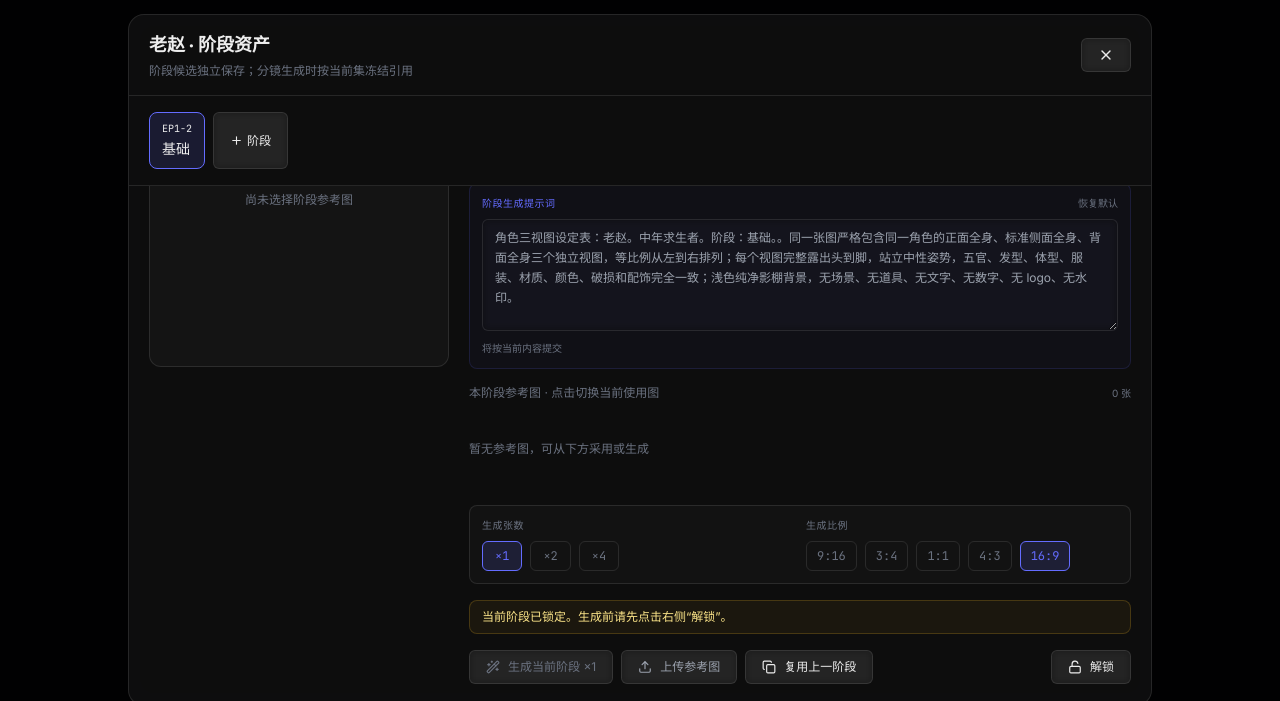
Test: AssetStageDialog › explains why generation is blocked for a locked stage
(page scrolled)
Expected: the text "当前阶段已锁定。生成前请先点击右侧“解锁”。" is shown, x1=469 y1=600 x2=1131 y2=634
Step 1. Click the button "生成当前阶段 ×1" → (541, 667), box x1=469 y1=650 x2=613 y2=684
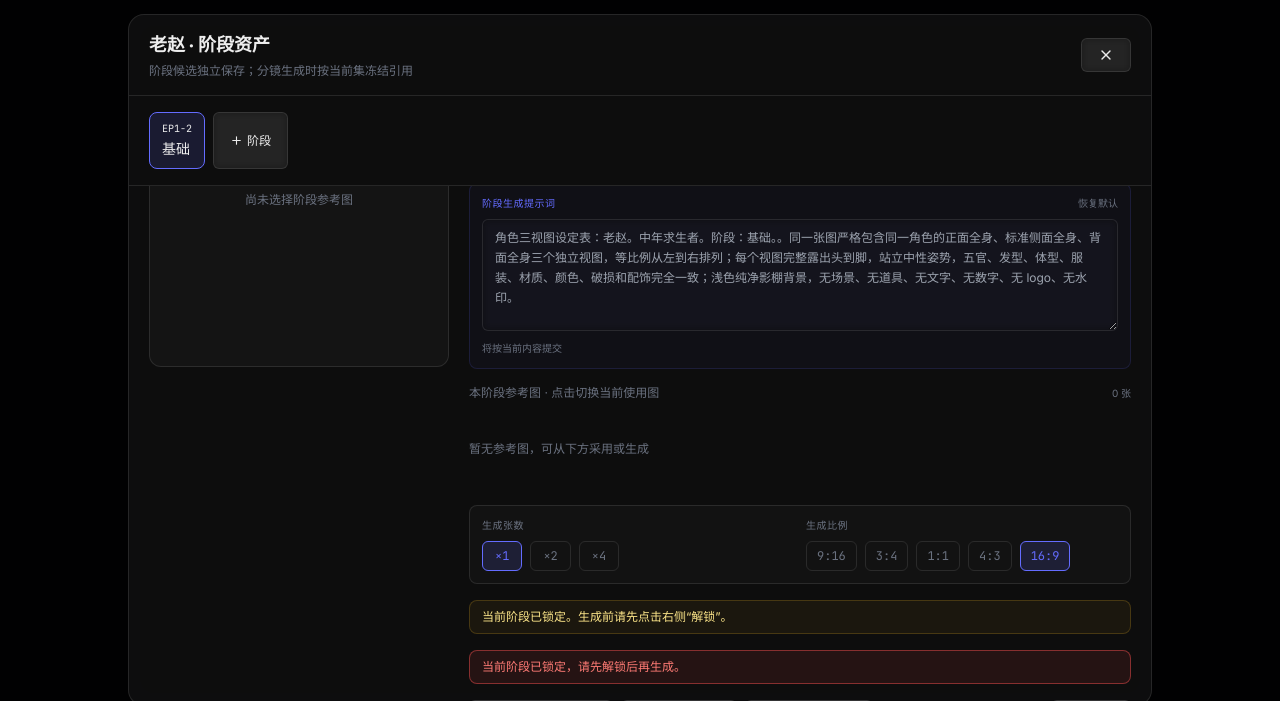
Expected: the text "当前阶段已锁定，请先解锁后再生成。" is shown, x1=469 y1=650 x2=1131 y2=684
